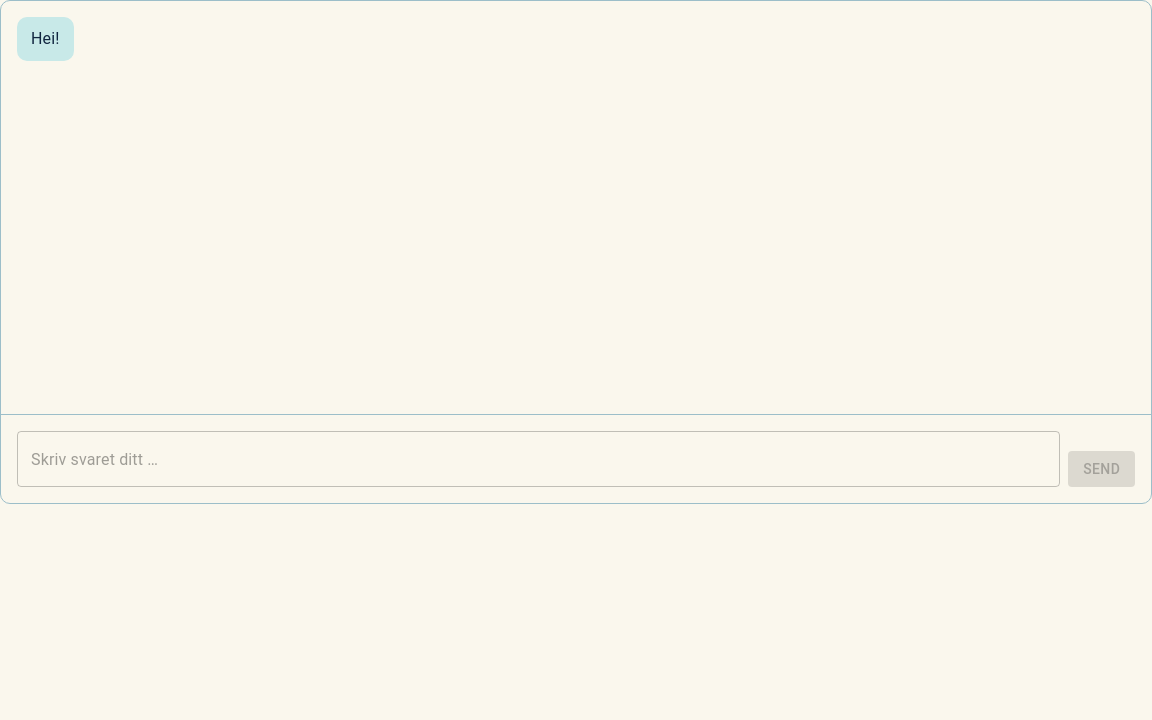
AgentChat › shows the friendly error, blocks sending, and retries without repeating the message
Type "Butikkmedarbeider" into the text box named "Melding". click: [539, 459]
box: x1=31 y1=448 x2=1046 y2=470
Then press Enter
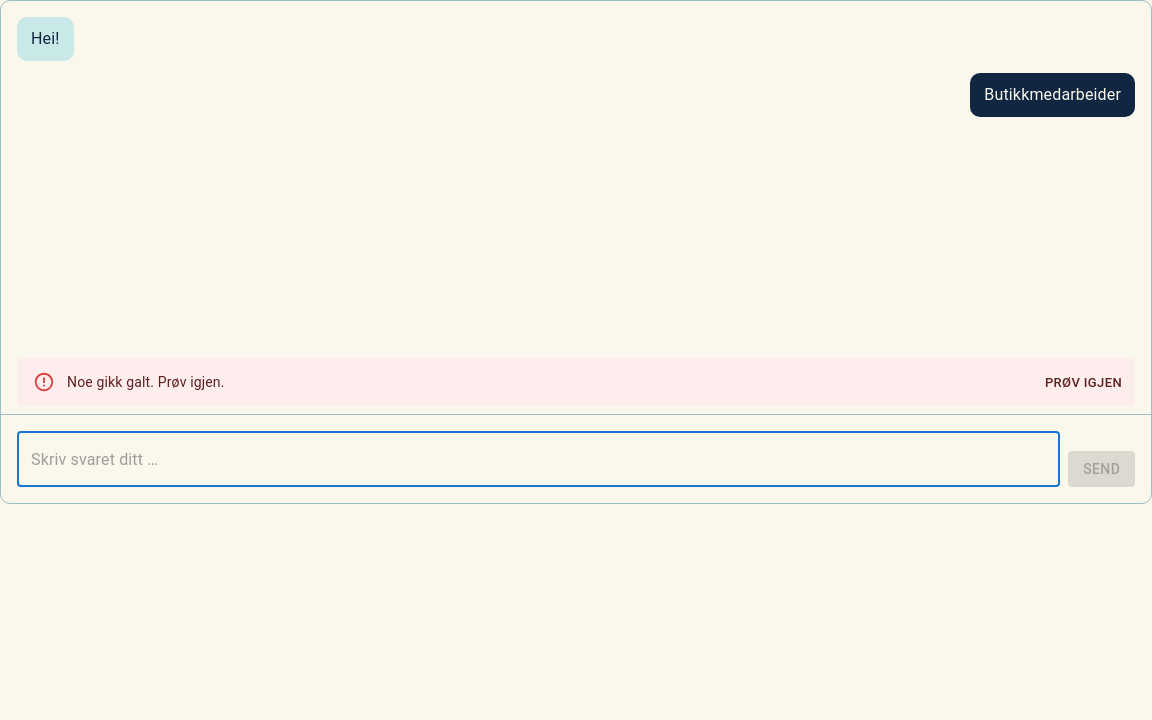
Now the message shows "Noe gikk galt. Prøv igjen.", box x1=67 y1=374 x2=225 y2=390
Type "Hei igjen" into the text box named "Melding". click: [539, 459]
box: x1=31 y1=448 x2=1046 y2=470
Then press Enter
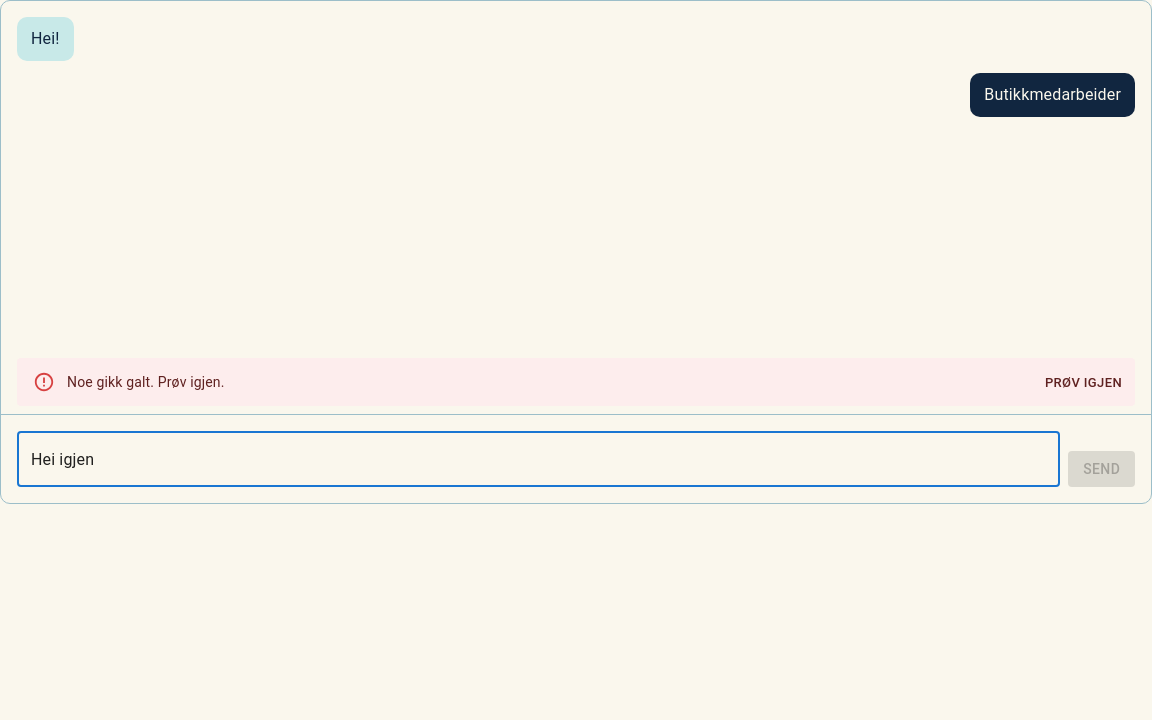
Click the button "Prøv igjen". click: [1083, 383]
box: x1=1040 y1=368 x2=1127 y2=399
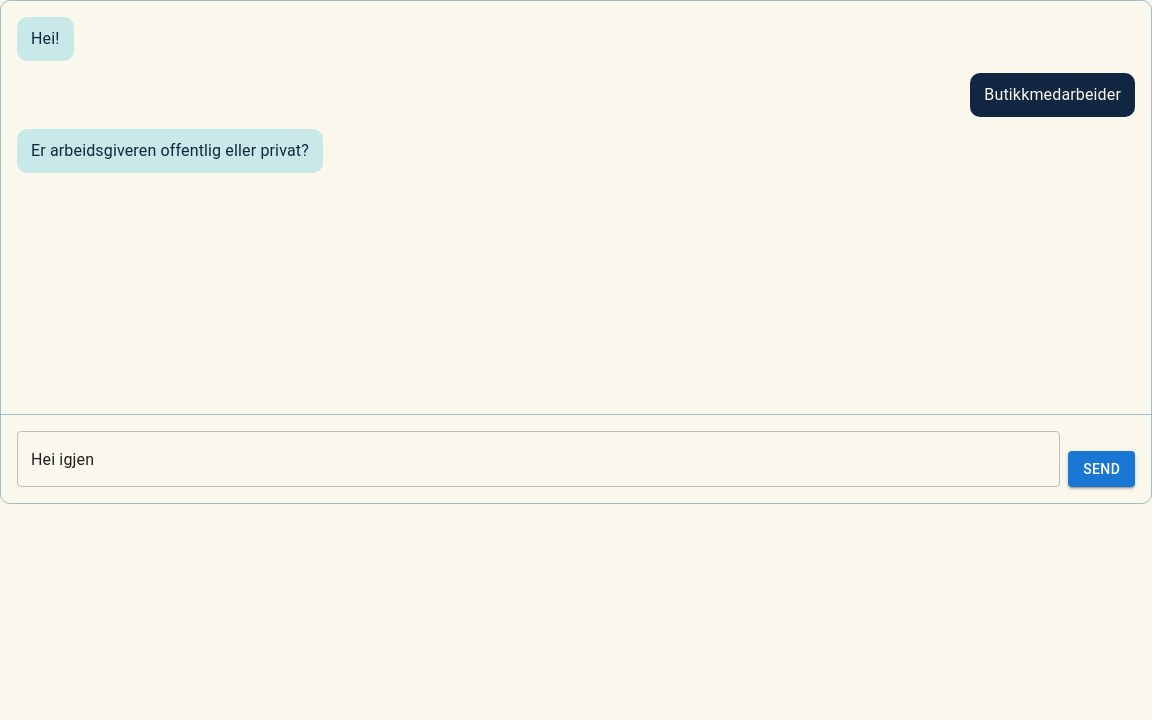
Expected: the number of list items "Butikkmedarbeider" is 1, x1=970 y1=73 x2=1135 y2=117
Now the list item "Er arbeidsgiveren offentlig eller privat?" is shown, box x1=17 y1=129 x2=323 y2=173
Now the message "Noe gikk galt. Prøv igjen. Prøv igjen" is gone
